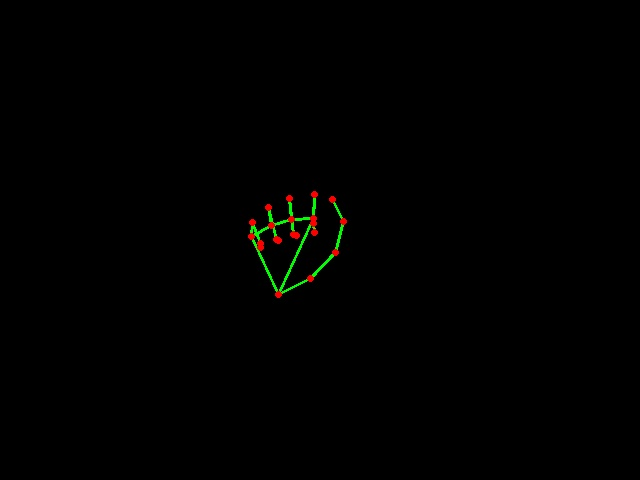back: (239, 185, 351, 306)
